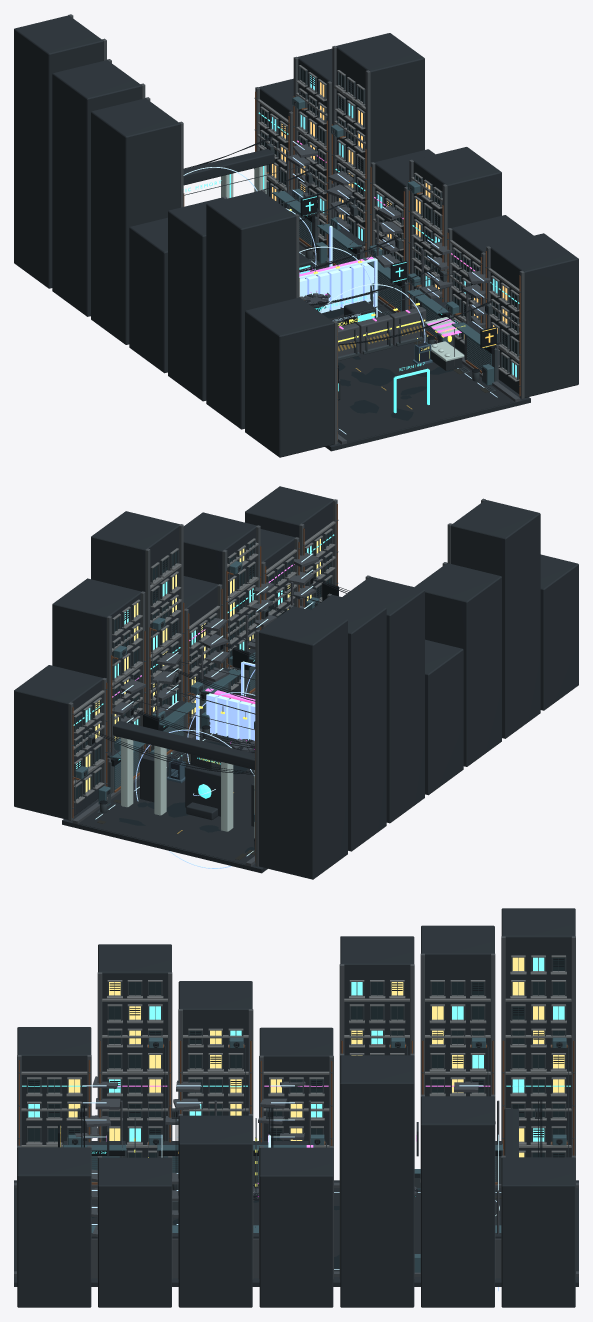
The model's file is level.glb.
The picture shows the model from 3 angles, top to bottom: view 1: azimuth 30°, elevation 25°; view 2: azimuth 150°, elevation 25°; view 3: azimuth 270°, elevation 25°; orthographic projection. The views are drawn at different scales.
Visible parts, largest first — view 1: Tenement.002, Tenement.005, Tenement.006, Tenement, Tenement.001, Tenement.013, AA /asphalt wearing course, Tenement.009, Tenement.004, Tenement.003, Tenement.011, Tenement.012 (+11 smaller); view 2: Tenement, Tenement.005, Tenement.004, Tenement.001, Tenement.002, Tenement.007, AA /asphalt wearing course, Tenement.008, Tenement.009, Tenement.006, Tenement.003, Tenement.011 (+16 smaller); view 3: Tenement.009, Tenement.008, Tenement.011, Tenement.010, Tenement.013, Tenement.007, Tenement.012, Tenement, Tenement.005, Tenement.001, Tenement.004, Tenement.002 (+13 smaller).
Boxes of the visible parts, bbox=[...] form: Tenement.002: bbox=[91, 98, 180, 344]; Tenement.005: bbox=[206, 190, 295, 429]; Tenement.006: bbox=[245, 297, 334, 457]; Tenement: bbox=[14, 15, 103, 288]; Tenement.001: bbox=[52, 60, 141, 316]; Tenement.013: bbox=[490, 233, 578, 397]; AA /asphalt wearing course: bbox=[299, 244, 514, 442]; Tenement.009: bbox=[336, 33, 424, 250]; Tenement.004: bbox=[168, 197, 224, 401]; Tenement.003: bbox=[129, 217, 167, 373]; Tenement.011: bbox=[413, 147, 501, 308]; Tenement.012: bbox=[451, 215, 533, 354]; Tenement: bbox=[258, 606, 347, 879]; Tenement.005: bbox=[451, 500, 540, 738]; Tenement.004: bbox=[414, 563, 501, 766]; Tenement.001: bbox=[310, 594, 386, 851]; Tenement.002: bbox=[342, 576, 424, 823]; Tenement.007: bbox=[14, 665, 102, 819]; AA /asphalt wearing course: bbox=[78, 694, 255, 864]; Tenement.008: bbox=[52, 578, 141, 725]; Tenement.009: bbox=[91, 511, 179, 750]; Tenement.006: bbox=[540, 554, 578, 710]; Tenement.003: bbox=[425, 639, 463, 795]; Tenement.011: bbox=[183, 512, 256, 695]; Tenement.009: bbox=[340, 1055, 414, 1307]; Tenement.008: bbox=[421, 1096, 494, 1307]; Tenement.011: bbox=[178, 1115, 252, 1307]; Tenement.010: bbox=[259, 1147, 333, 1307]; Tenement.013: bbox=[17, 1147, 91, 1307]; Tenement.007: bbox=[501, 1157, 575, 1307]; Tenement.012: bbox=[98, 1157, 171, 1307]; Tenement: bbox=[501, 908, 575, 1157]; Tenement.005: bbox=[98, 944, 171, 1157]; Tenement.001: bbox=[421, 925, 494, 1096]; Tenement.004: bbox=[178, 981, 252, 1115]; Tenement.002: bbox=[340, 936, 414, 1055].
Size of the model in its own units: 27 by 24.58 by 42.
